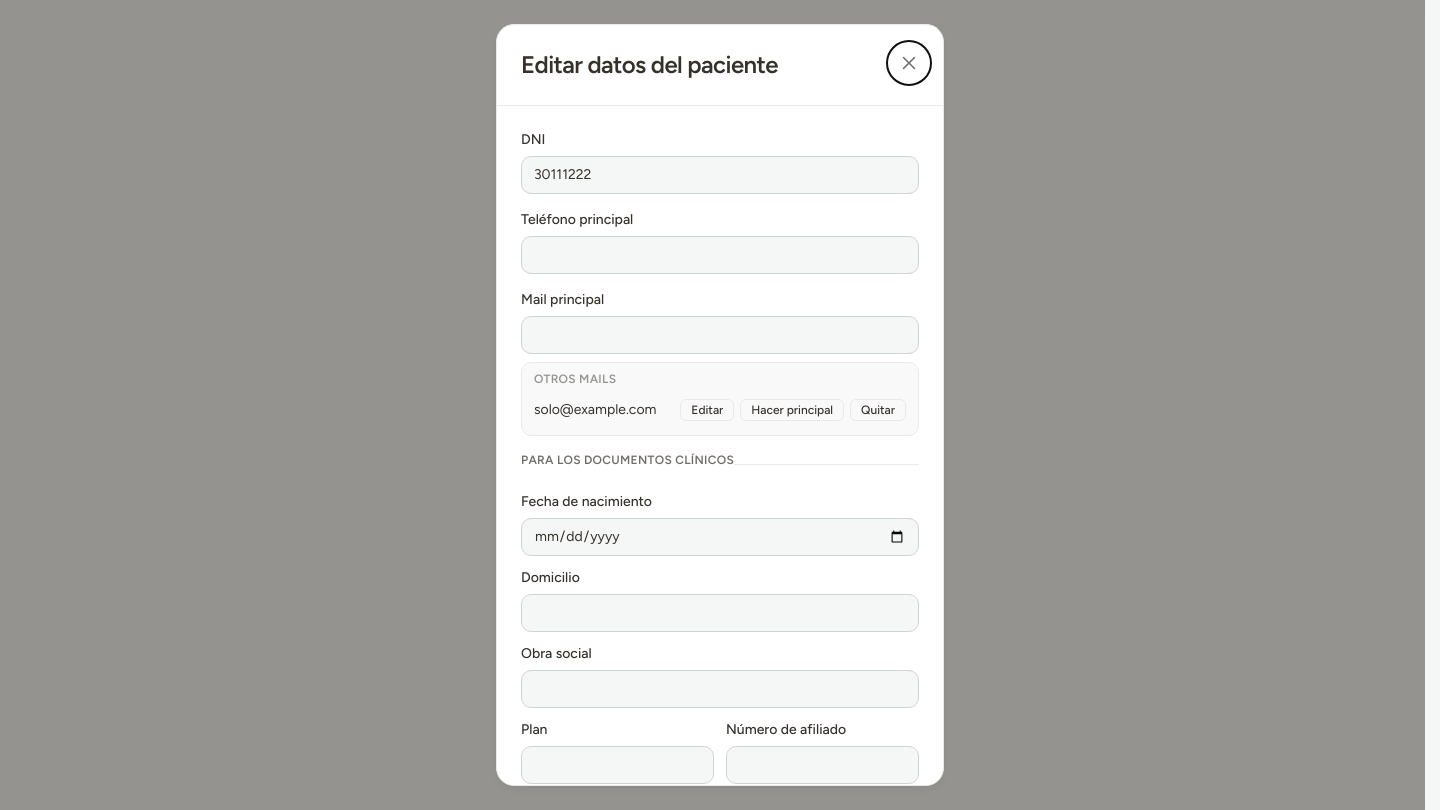
Test: EditarPacienteModal › sin principal, 'Hacer principal' solo saca al elegido de la lista
Click the button with aria-label "Hacer principal solo@example.com": x=792, y=410 [740, 399, 844, 421]
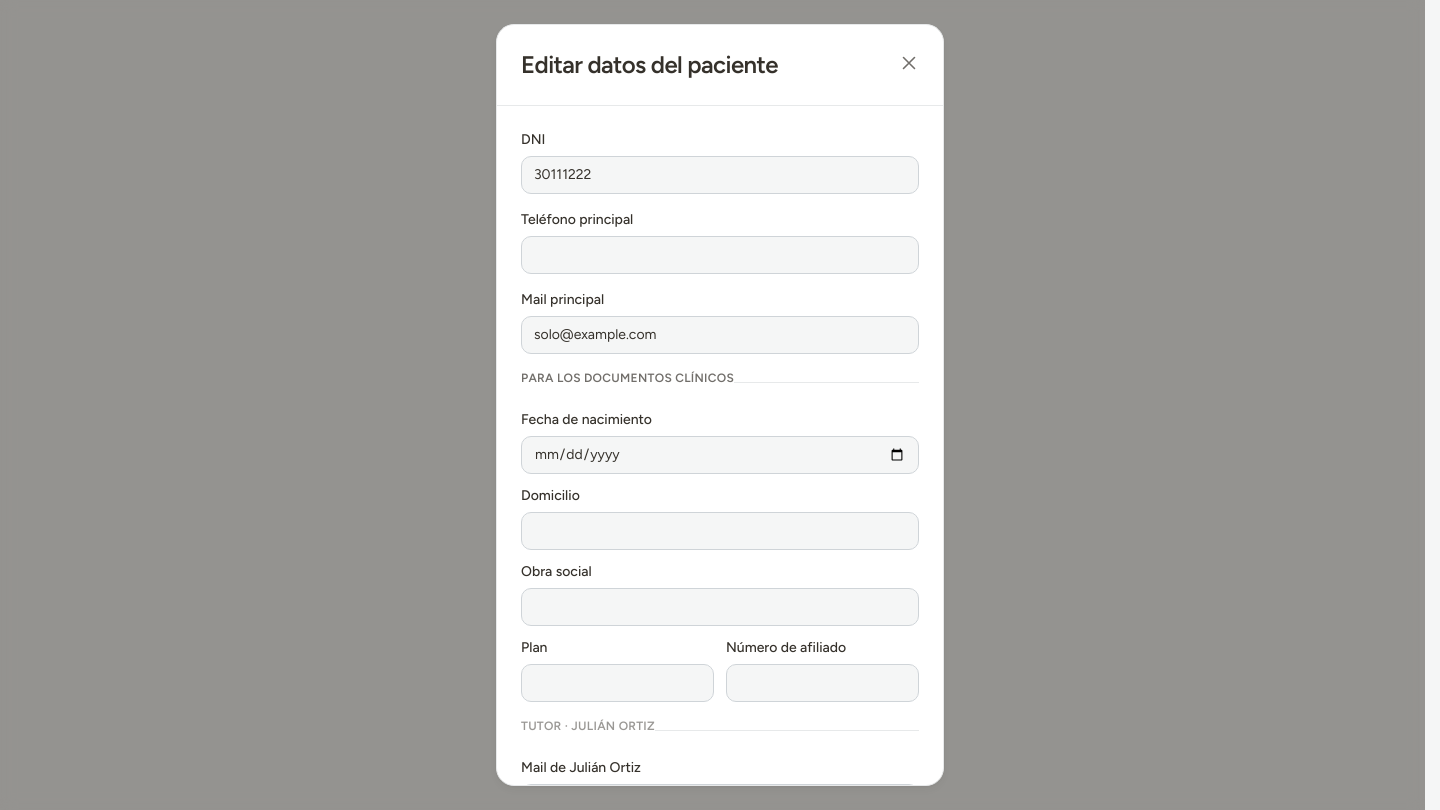
expect the field labelled "Mail principal" holds "solo@example.com": met, box [521, 316, 919, 354]
expect the text "Otros mails" is gone: met
